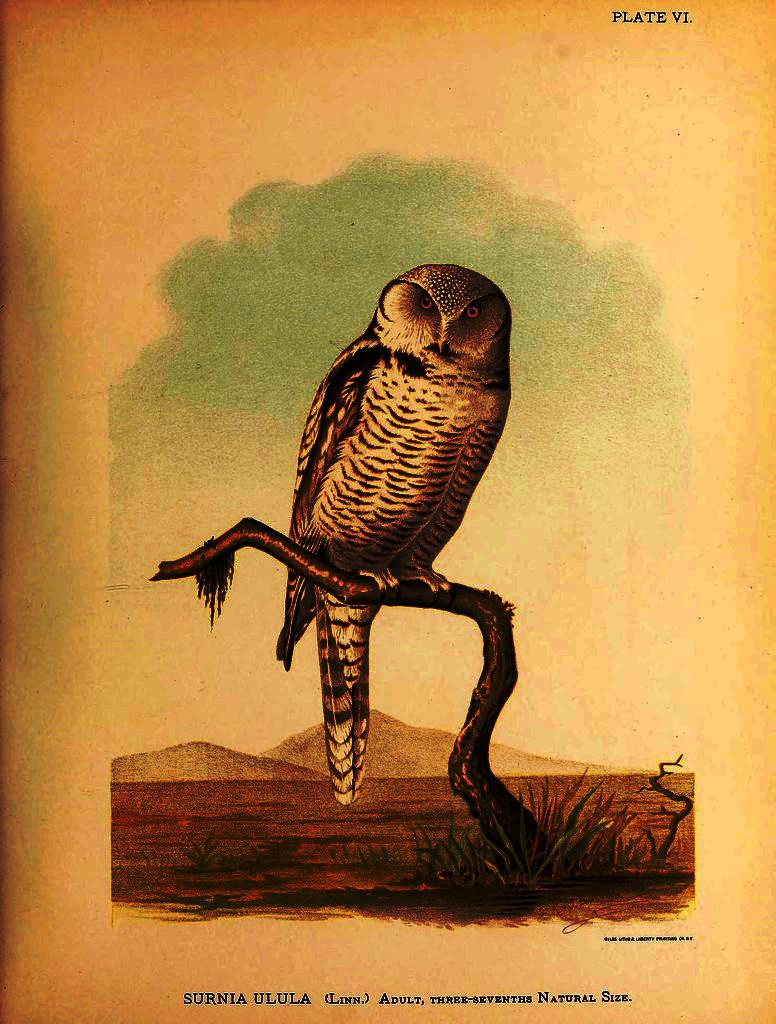Owl: (276, 260, 509, 810)
